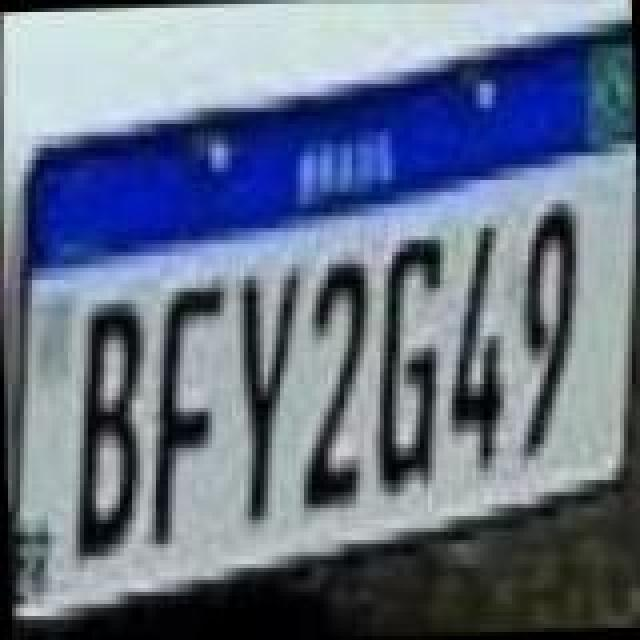2: (286, 254, 374, 510)
4: (438, 214, 518, 474)
B: (62, 298, 154, 566)
F: (140, 274, 236, 546)
G: (366, 228, 454, 496)
Y: (224, 260, 308, 524)
